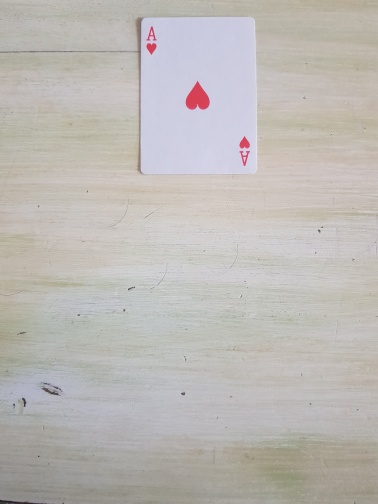ace: (139, 16, 259, 176)
